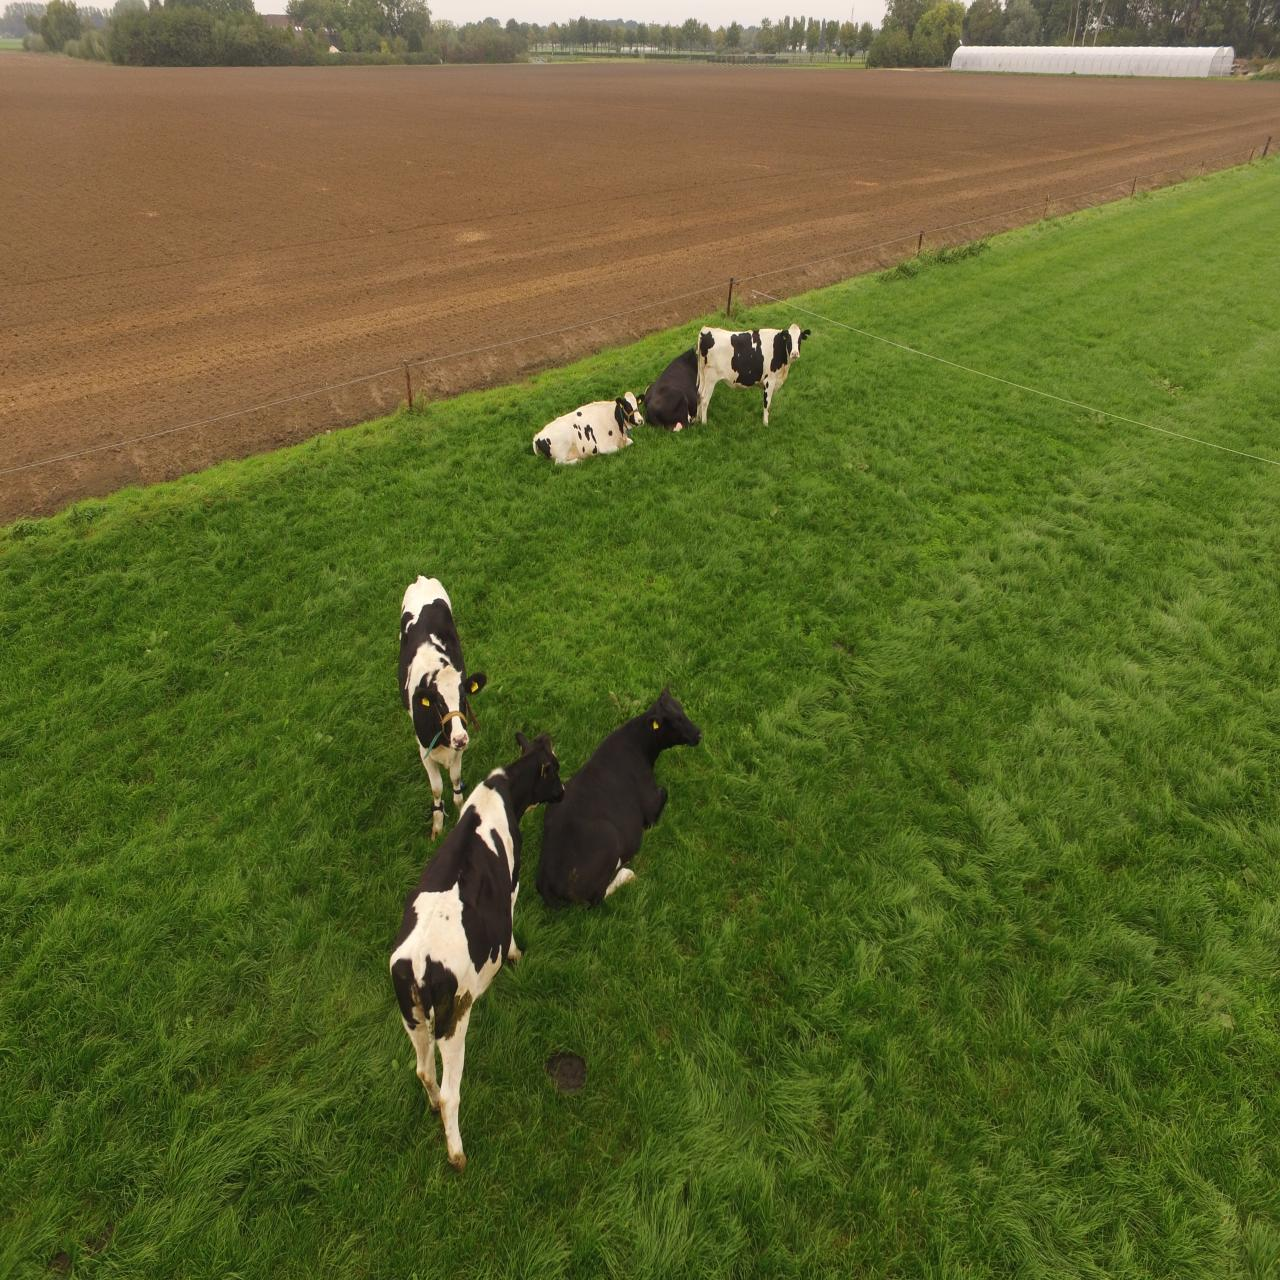cow: (390, 713, 560, 1172), (545, 697, 715, 922), (389, 561, 486, 821), (696, 308, 805, 402), (513, 406, 651, 451), (640, 346, 703, 429)
